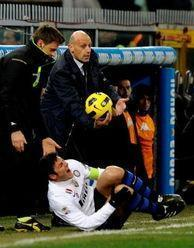Fall-Detected: (37, 141, 178, 232)
